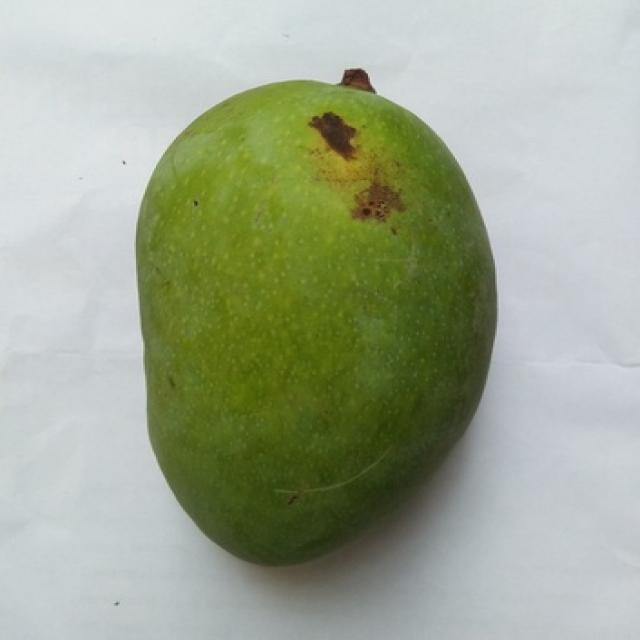Mango: (138, 80, 495, 564)
